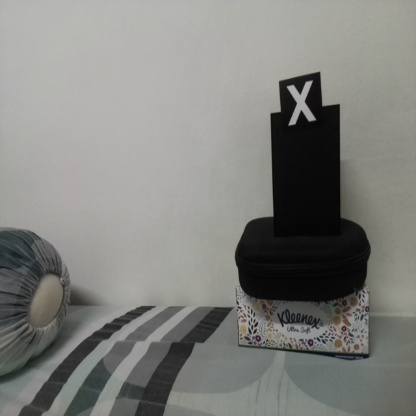id_13: (279, 78, 322, 134)
